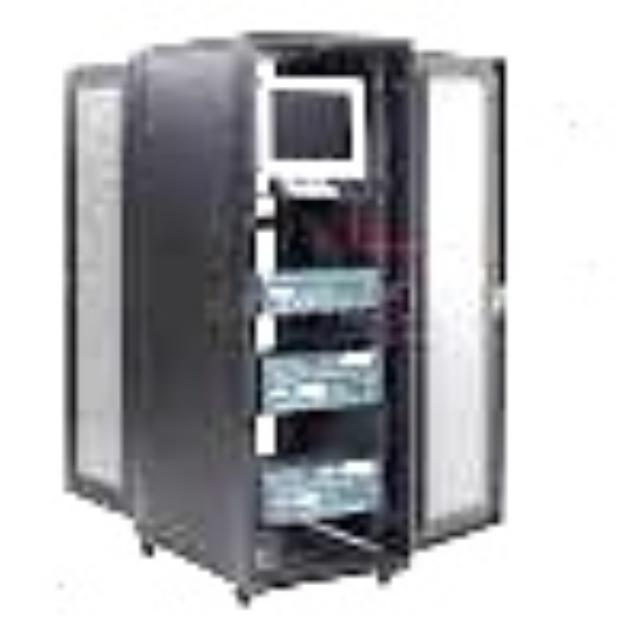Server: (210, 25, 520, 620)
